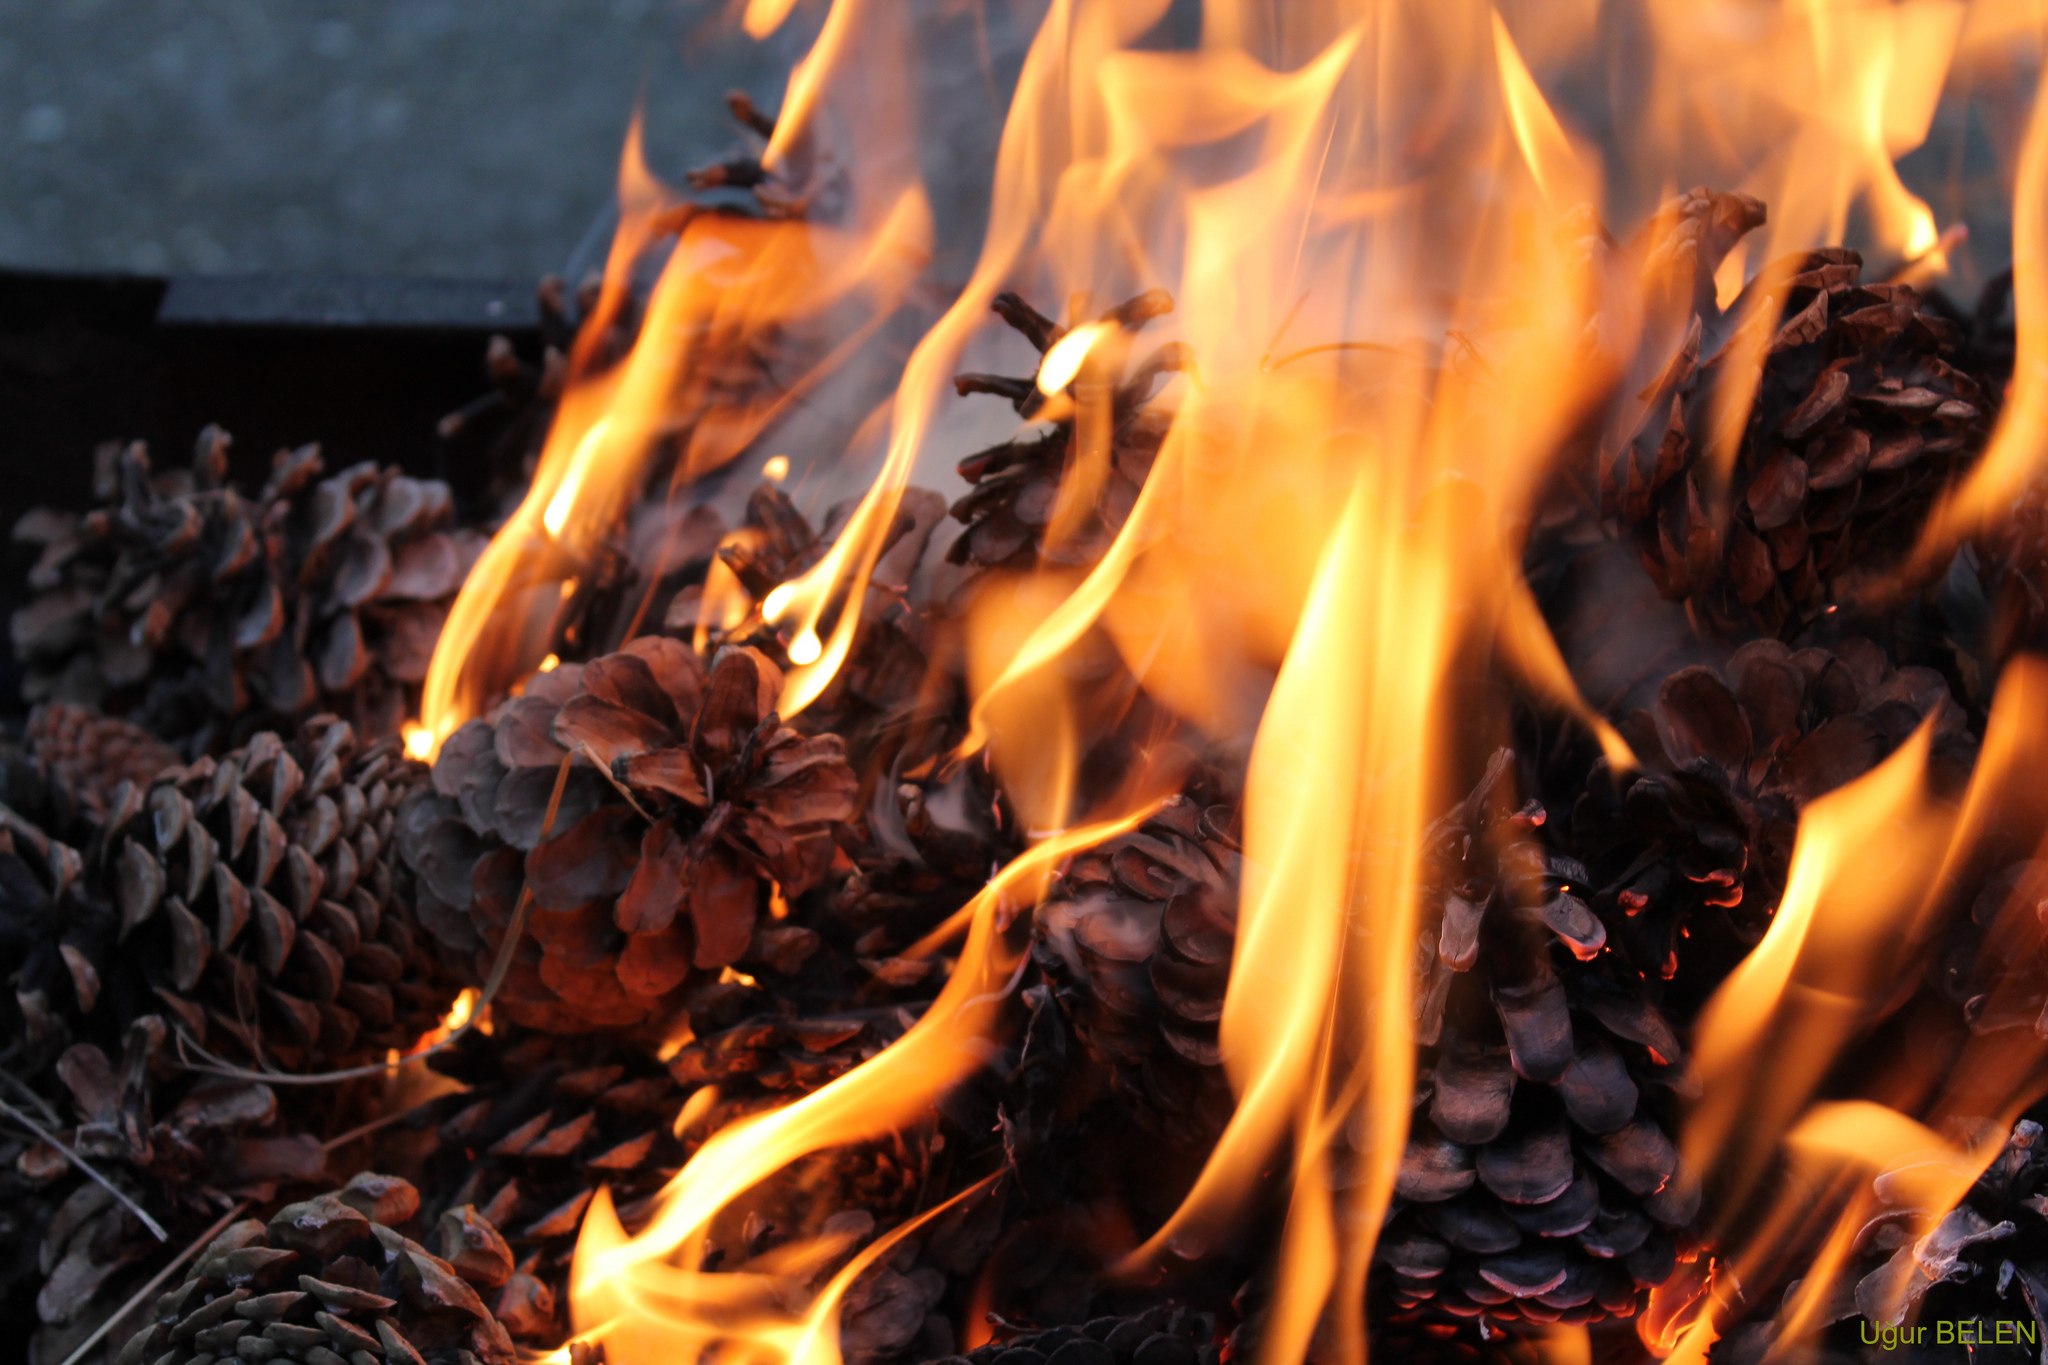fire: (471, 14, 2030, 1312)
